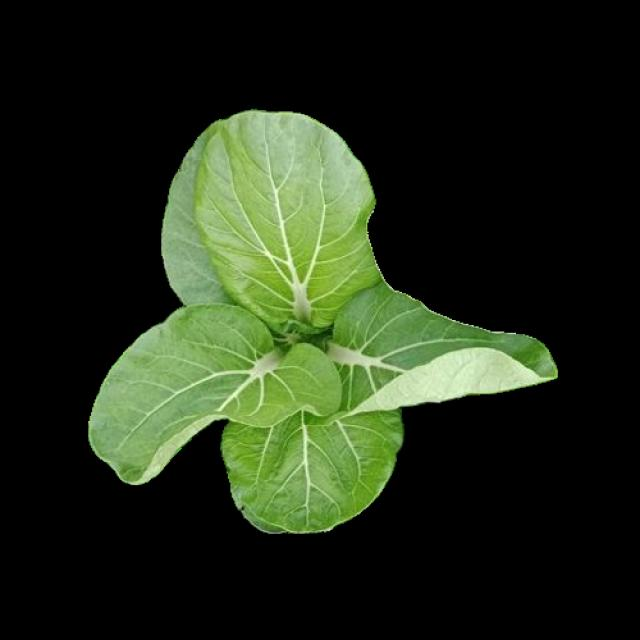healthy: (89, 109, 556, 526)
mature: (91, 111, 558, 529)
